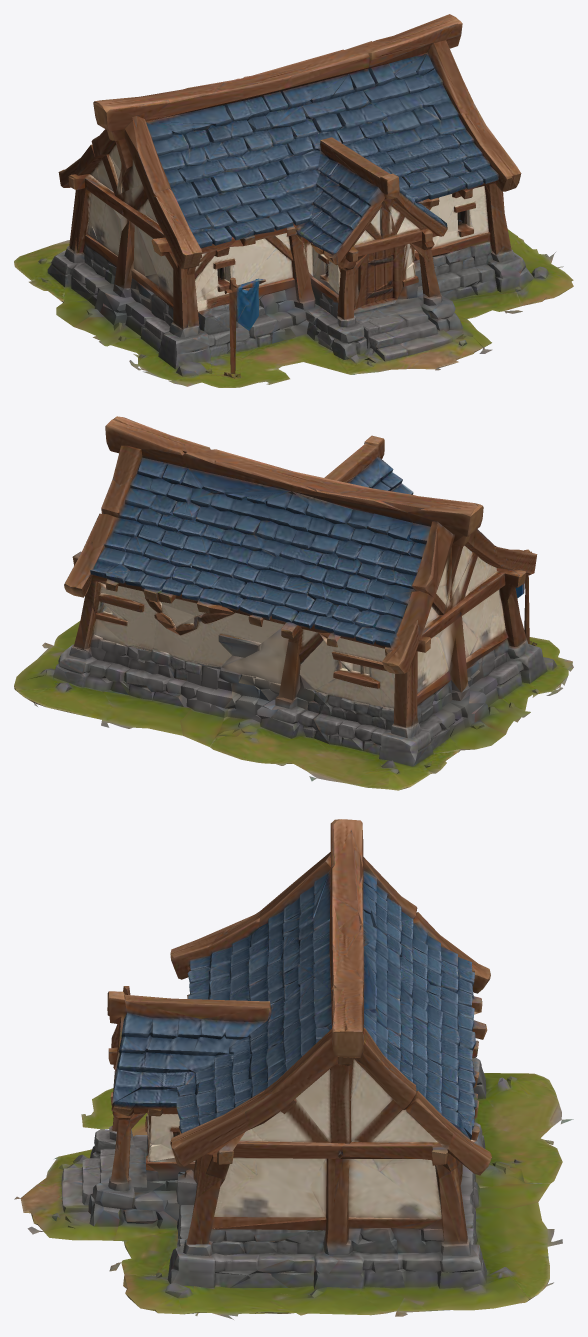
Rendered from towncenter.glb.
3 views of the same model, one above another, from view 1: azimuth 30°, elevation 25°; view 2: azimuth 150°, elevation 25°; view 3: azimuth 270°, elevation 25° (orthographic). The views are drawn at different scales.
Bounding box in the file's own units: 1.9 × 0.8868 × 1.72.
Materials: 1 (1 with a texture image).
